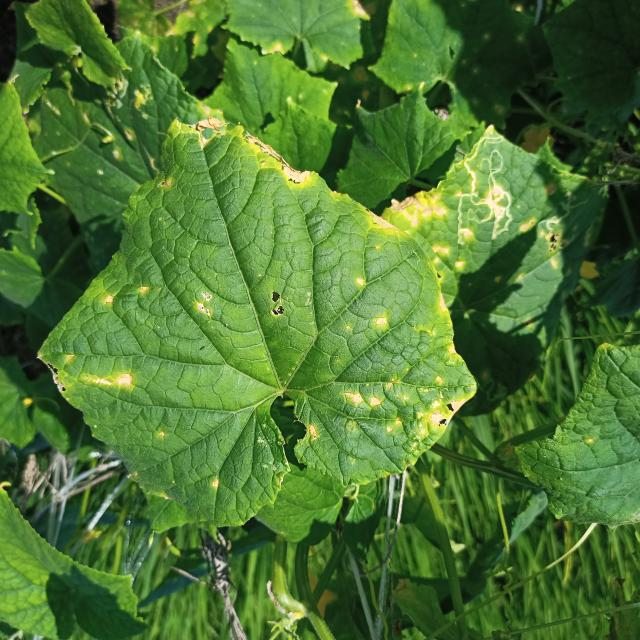disease_cucumber: (345, 373, 459, 448), (231, 129, 323, 190), (368, 186, 450, 243), (47, 348, 135, 396), (192, 288, 216, 316), (136, 282, 150, 296), (102, 293, 117, 306), (374, 314, 387, 326), (211, 475, 221, 488), (356, 270, 364, 285)
